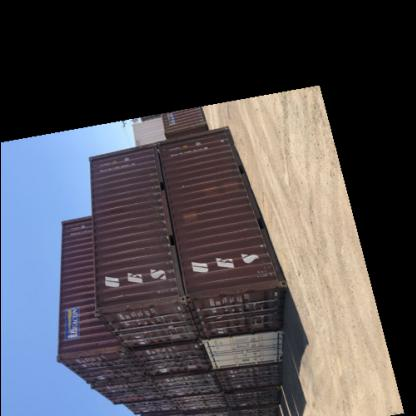Damage: (210, 280, 256, 300)
